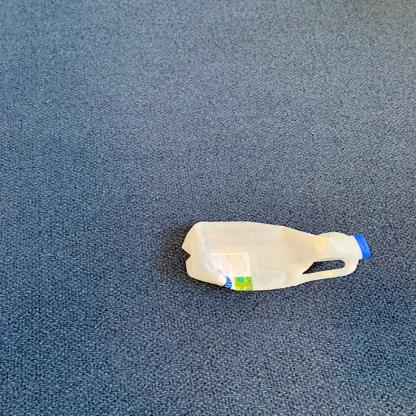trash: (174, 216, 375, 297)
